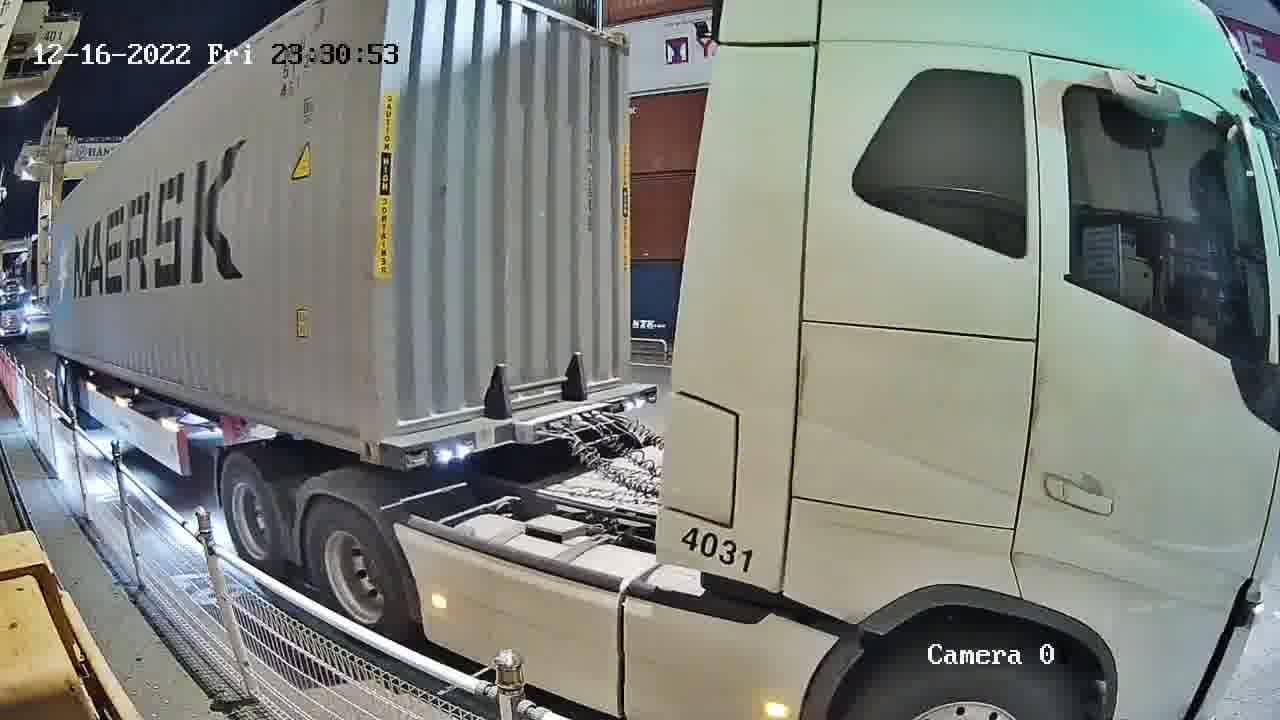Chassis: (381, 379, 666, 471)
Hole_R: (338, 410, 383, 462)
Tire: (305, 495, 400, 635), (222, 457, 283, 568)
